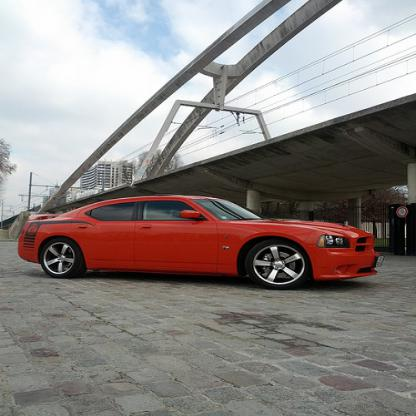Vehicle: (23, 196, 380, 287)
